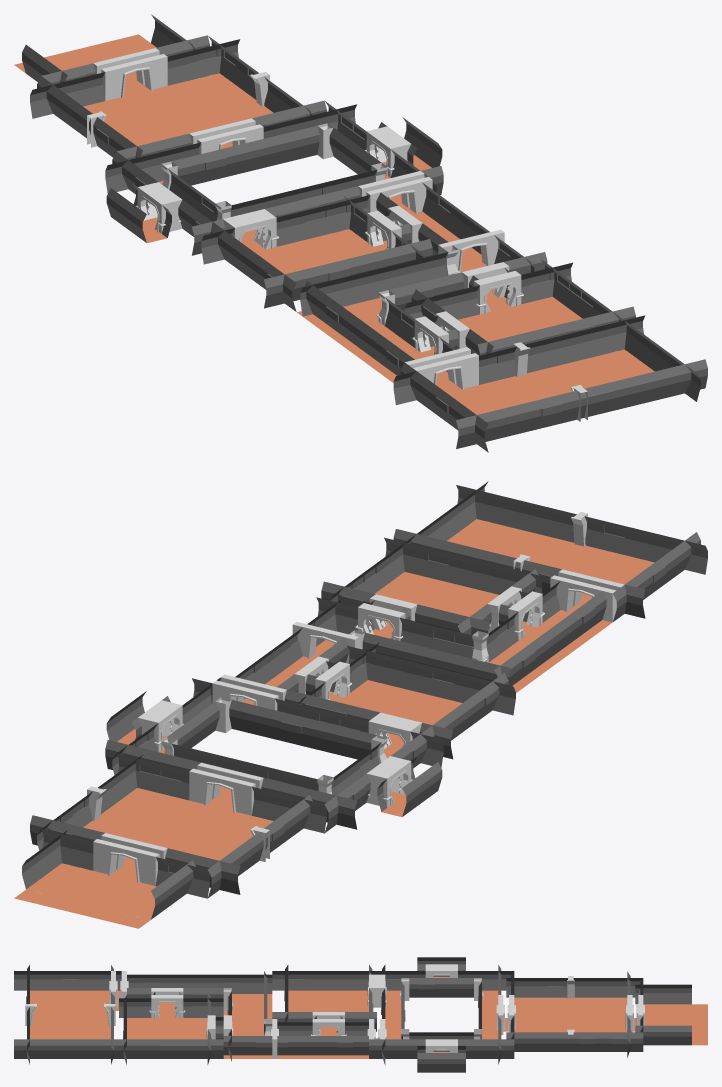
The model's file is Ship_Interior_Alfa.fbx.
The picture shows the model from 3 angles, top to bottom: view 1: azimuth 30°, elevation 25°; view 2: azimuth 150°, elevation 25°; view 3: azimuth 270°, elevation 25°; orthographic projection. The views are drawn at different scales.
Parts seen in each view (by area): view 1: Wall_2.003, Wall_2.007, Cube.009, Wall_2.005, Wall_2.014, Cube, Cube.003, Wall_2.001, Cube.007, Cube.011, Cube.005, Wall_2.006 (+2 smaller); view 2: Wall_2.002, Wall_2.004, Wall_2.008, Wall_2.014, Wall_2.006, Cube.007, Cube.008, Cube.003, Cube.011, Cube.005, Cube.001, Wall_2.001 (+1 smaller); view 3: Cube.006, Cube.010, Wall_Base_02.005, Wall_Base_03.004, Wall_Base_02.004, Wall_Base_03.003, Wall_Base_05.003, Wall_Base_05.004, Wall_Base_01.005, Wall_Base_01.006, Wall_Base_01.016, Wall_Base_01.017 (+85 smaller).
Boxes of the visible parts, x1=… form: Wall_2.003: x1=101, y1=54, x2=167, y2=100; Wall_2.007: x1=413, y1=353, x2=478, y2=389; Cube.009: x1=474, y1=271, x2=523, y2=314; Wall_2.005: x1=366, y1=177, x2=432, y2=213; Wall_2.014: x1=438, y1=229, x2=504, y2=271; Cube: x1=229, y1=213, x2=279, y2=249; Cube.003: x1=136, y1=184, x2=171, y2=233; Wall_2.001: x1=197, y1=124, x2=263, y2=154; Cube.007: x1=412, y1=316, x2=448, y2=354; Cube.011: x1=365, y1=210, x2=401, y2=249; Cube.005: x1=365, y1=129, x2=400, y2=177; Wall_2.006: x1=358, y1=171, x2=424, y2=207; Wall_2.002: x1=189, y1=768, x2=255, y2=815; Wall_2.004: x1=93, y1=839, x2=159, y2=885; Wall_2.008: x1=550, y1=575, x2=616, y2=622; Wall_2.014: x1=292, y1=622, x2=358, y2=663; Wall_2.006: x1=212, y1=680, x2=278, y2=710; Cube.007: x1=508, y1=591, x2=544, y2=640; Cube.008: x1=355, y1=603, x2=405, y2=640; Cube.003: x1=377, y1=758, x2=412, y2=807; Cube.011: x1=315, y1=661, x2=352, y2=700; Cube.005: x1=148, y1=702, x2=183, y2=751; Cube.001: x1=368, y1=717, x2=416, y2=748; Wall_2.001: x1=197, y1=762, x2=263, y2=799; Cube.006: x1=149, y1=995, x2=185, y2=1018; Cube.010: x1=310, y1=1019, x2=346, y2=1035; Wall_Base_02.005: x1=643, y1=984, x2=659, y2=1004; Wall_Base_03.004: x1=643, y1=1025, x2=659, y2=1045; Wall_Base_02.004: x1=659, y1=1025, x2=675, y2=1045; Wall_Base_03.003: x1=675, y1=984, x2=691, y2=1004; Wall_Base_05.003: x1=659, y1=984, x2=675, y2=1004; Wall_Base_05.004: x1=675, y1=1025, x2=691, y2=1045; Wall_Base_01.005: x1=546, y1=978, x2=562, y2=997; Wall_Base_01.006: x1=482, y1=1039, x2=498, y2=1058; Wall_Base_01.016: x1=191, y1=998, x2=207, y2=1017; Wall_Base_01.017: x1=175, y1=1039, x2=191, y2=1058.
Size of the model in its own units: 8600 by 2880 by 268.
